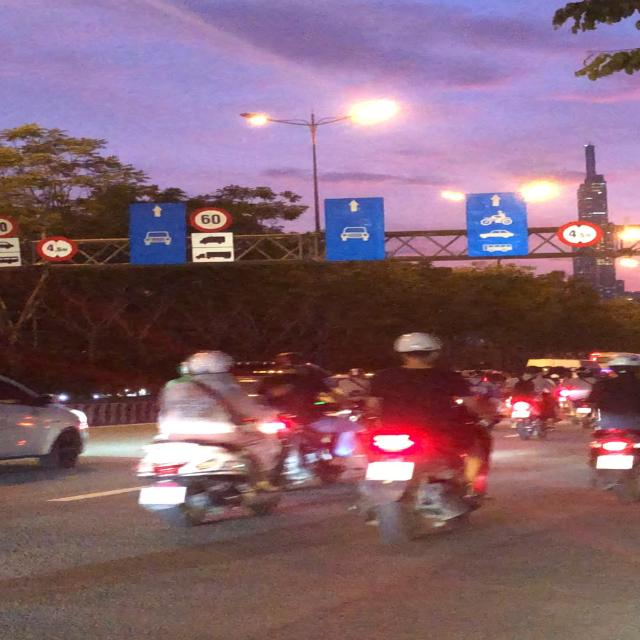Bien bao han che chieu cao: (556, 217, 608, 250), (32, 234, 93, 260)
Bien bao toc do toi da cho phep: (188, 208, 247, 232)
